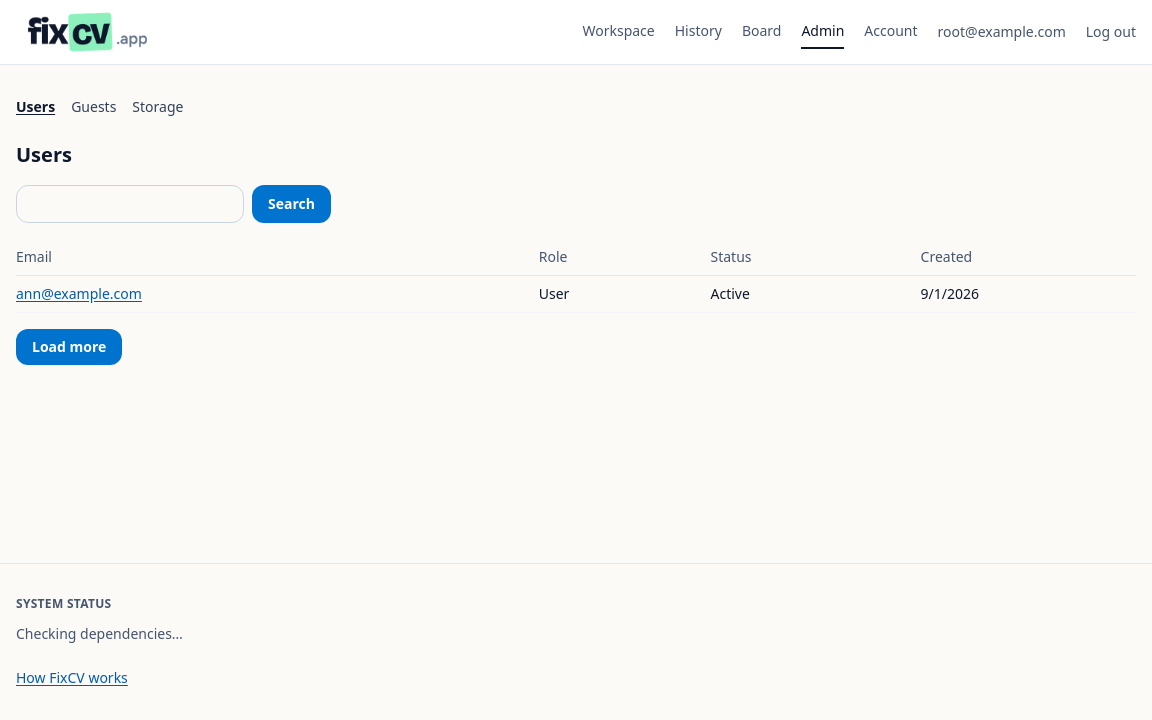
Test case: /admin user list — AC-31 › Load more is disabled while the next page is fetching
The width and height of the screenshot is (1152, 720).
Check: the link "ann@example.com" is shown, box [16,284,142,303]
Click the button "Load more".
click(69, 347)  # box [16,329,122,365]
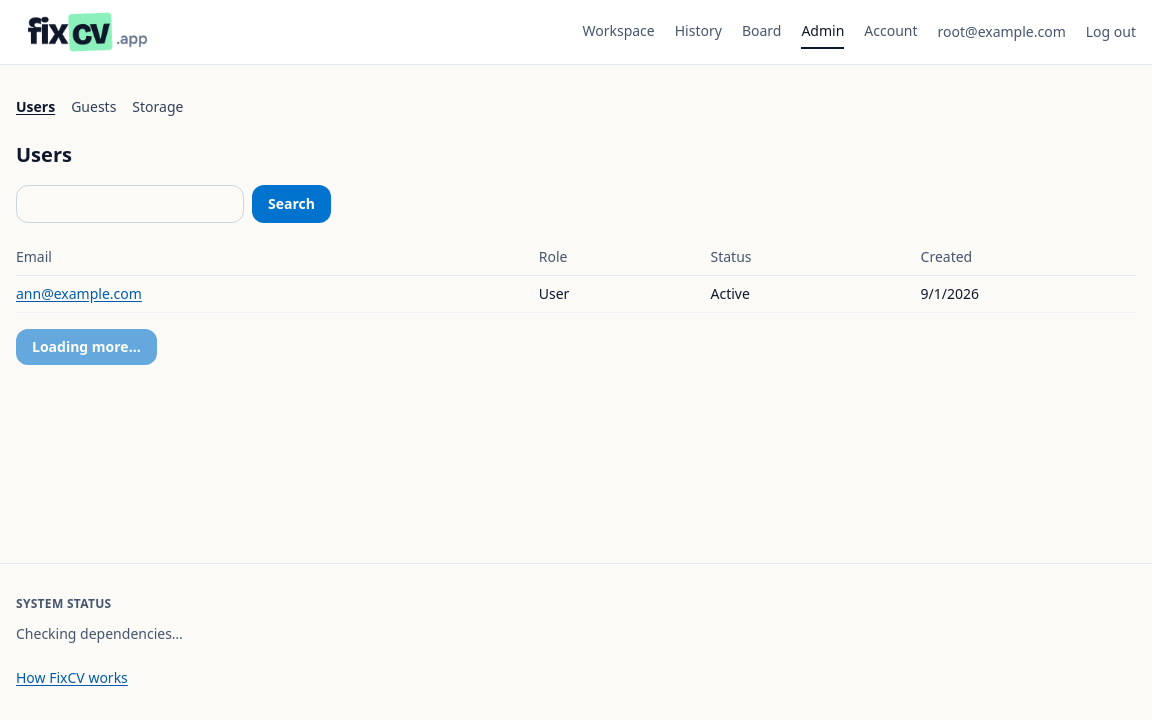
Check: the button "Loading more…" is disabled, box [16,329,157,365]
